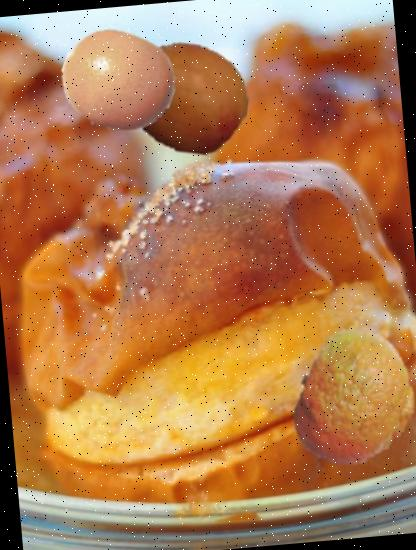Apricot: (121, 32, 254, 165)
Grapefruit: (56, 20, 180, 144)
Mandarine: (280, 323, 416, 476)
